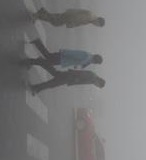person: (25, 38, 103, 70), (28, 66, 107, 97), (32, 6, 106, 31)
